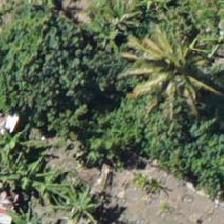coconut_tree: (113, 22, 203, 112)
